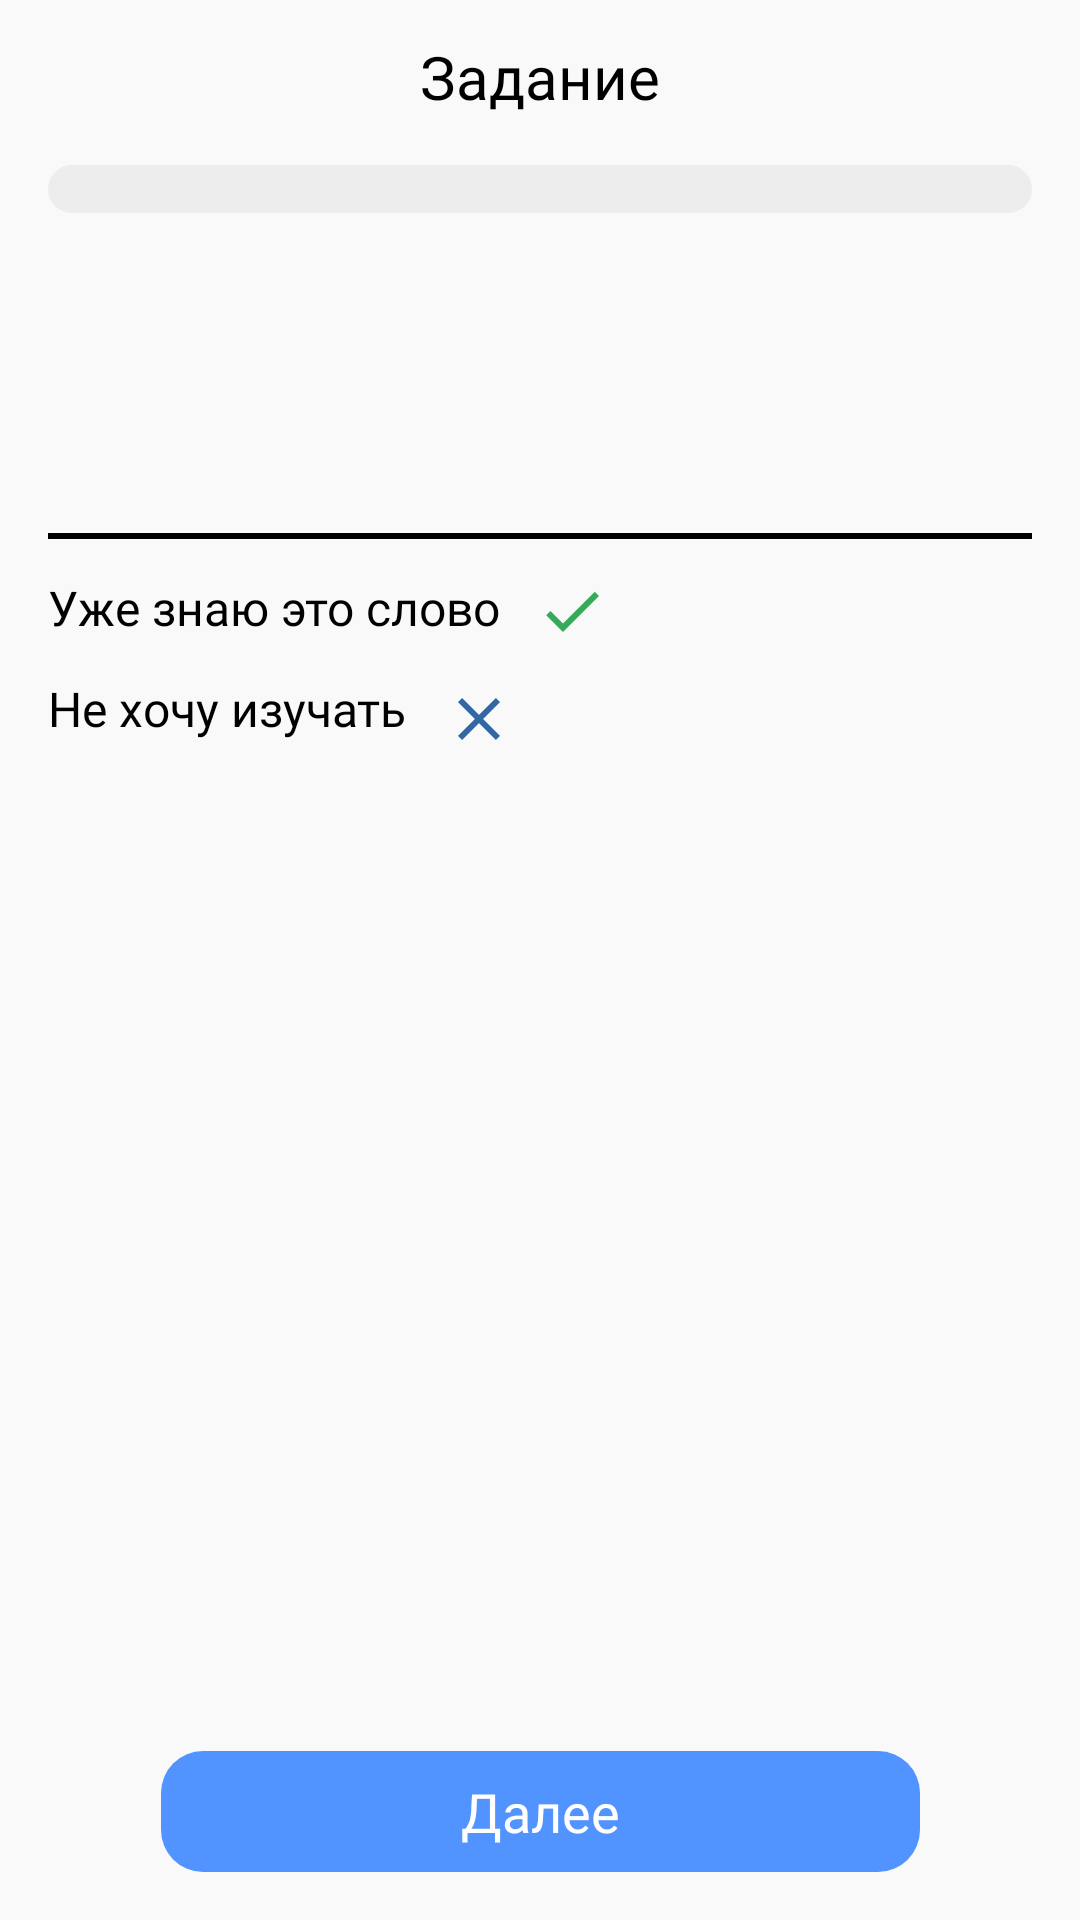

Named icons in this screenshot (1080×1920) and their centers, point (x, y):
bont know: point (479, 719)
check: point (572, 612)
